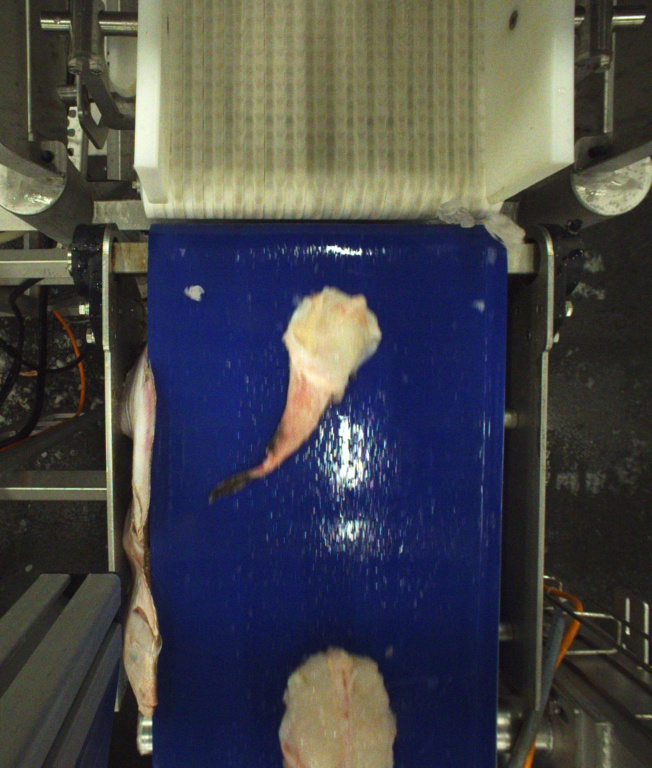ANF: (277, 647, 398, 768)
